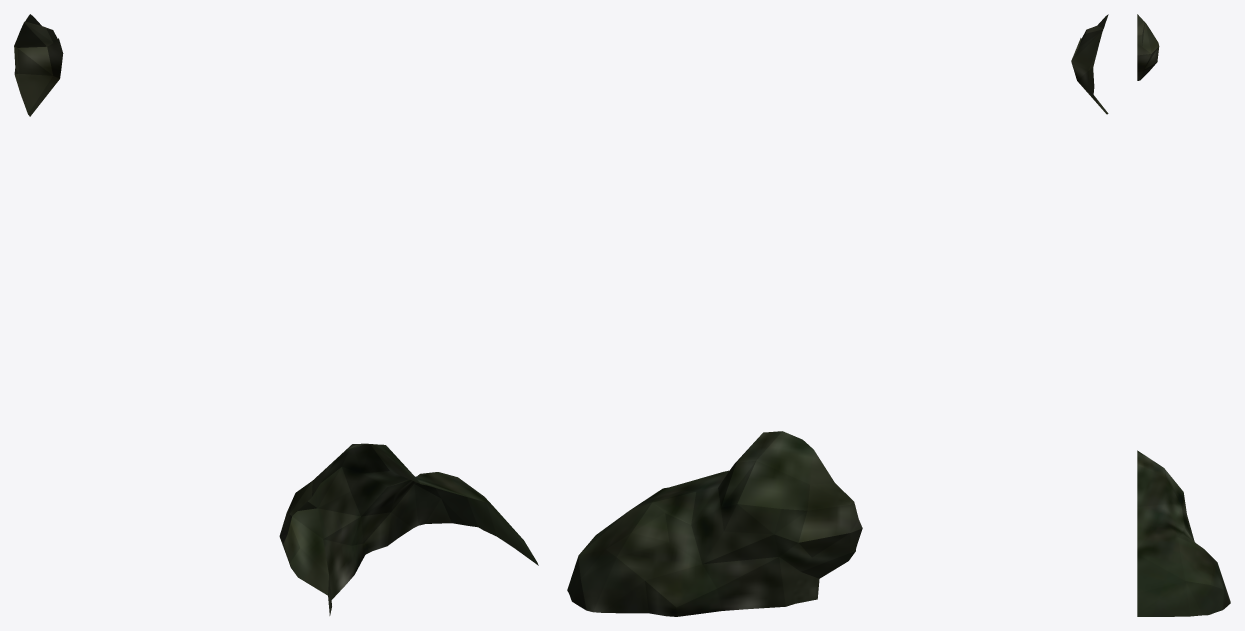
3 views of the same model, side by side, from view 1: azimuth 30°, elevation 25°; view 2: azimuth 150°, elevation 25°; view 3: azimuth 270°, elevation 25° (orthographic). The views are drawn at different scales.
Size of the model in its own units: 0.9263 by 1.18 by 0.225.
1 material, 1 textured.
